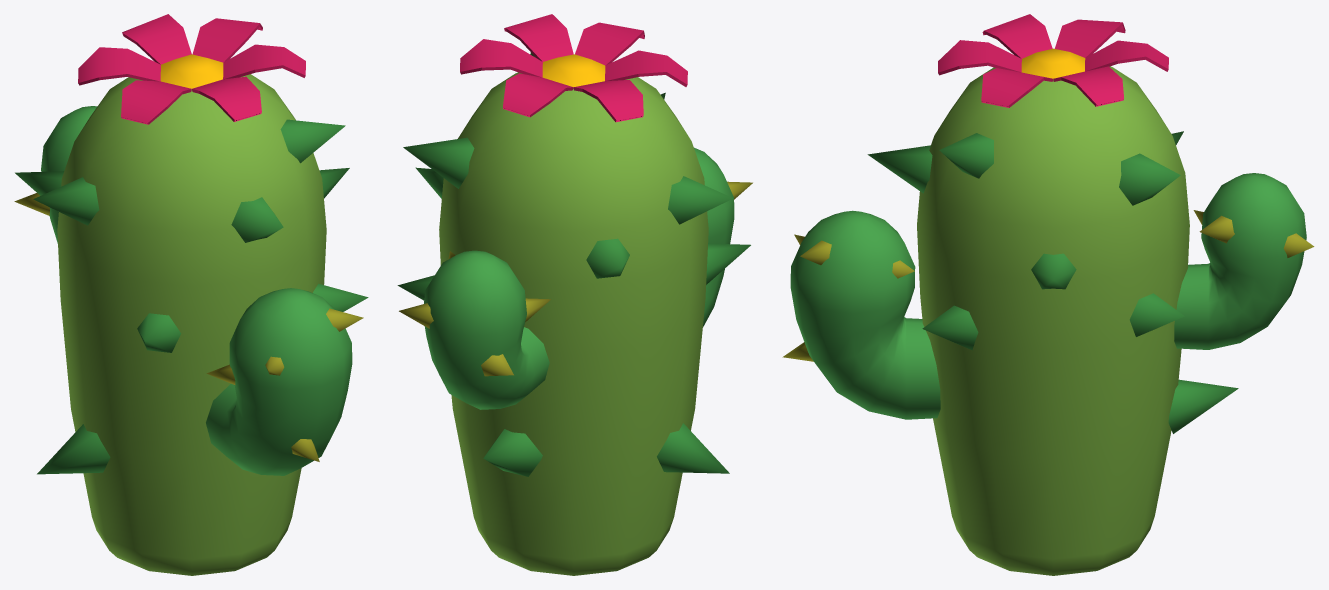
Rendered from Cactus3.fbx.
3 renders of one model, left to right at view 1: azimuth 30°, elevation 25°; view 2: azimuth 150°, elevation 25°; view 3: azimuth 270°, elevation 25°, orthographic.
Visible parts, largest first — view 1: Cactus3; view 2: Cactus3; view 3: Cactus3.
Boxes of the visible parts, x1,y1,x2,y2 form: Cactus3: (14, 14, 368, 575); Cactus3: (397, 14, 752, 575); Cactus3: (782, 14, 1314, 575).
Size of the model in its own units: 388 by 571 by 556.
